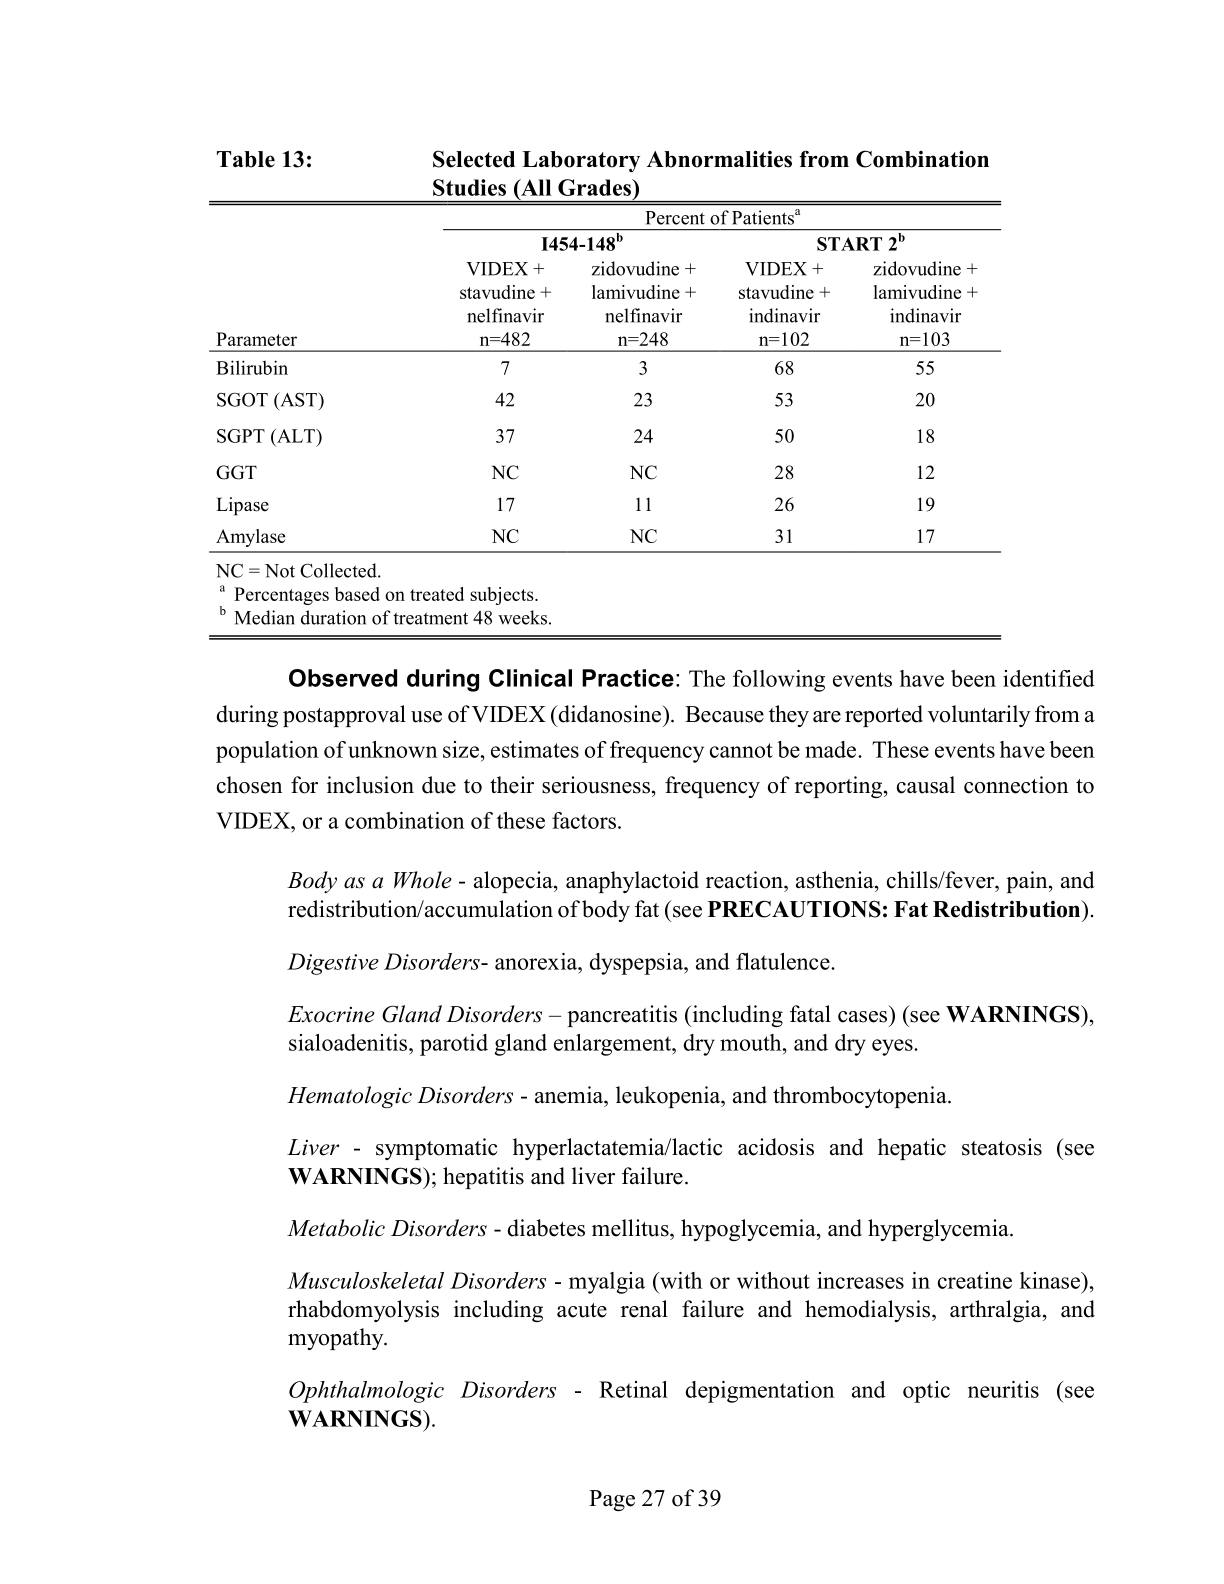partial_lined_merged_cells: (206, 201, 1002, 555)
